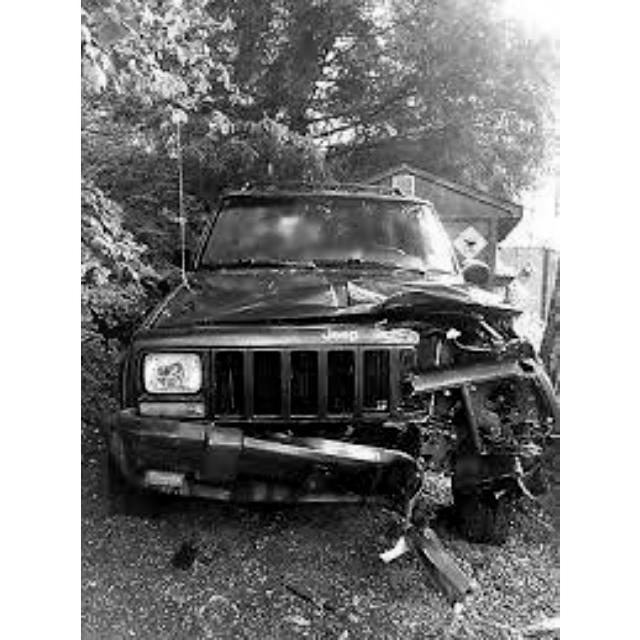Headlight-damage: (407, 294, 515, 380)
bonnet-dent: (194, 257, 478, 323)
front-bumper-dent: (258, 428, 514, 516)
